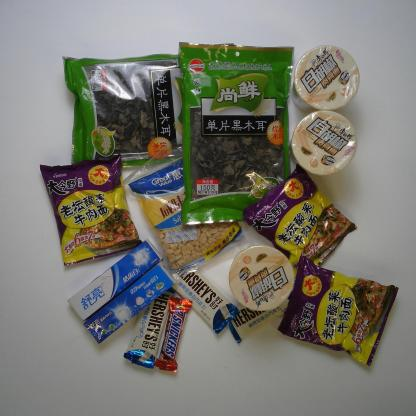Chocolate: (151, 250, 241, 336), (224, 269, 309, 345), (122, 275, 182, 370), (153, 295, 193, 373)
Dried Food: (177, 41, 296, 226), (62, 49, 222, 168)
Dried Fruit: (121, 135, 253, 281)
Instant Noodles: (276, 254, 400, 367), (241, 162, 358, 278), (38, 152, 143, 267), (290, 44, 361, 114), (227, 243, 296, 313), (288, 110, 358, 177)
Personal Hygiene: (81, 259, 178, 346), (67, 237, 165, 322)
